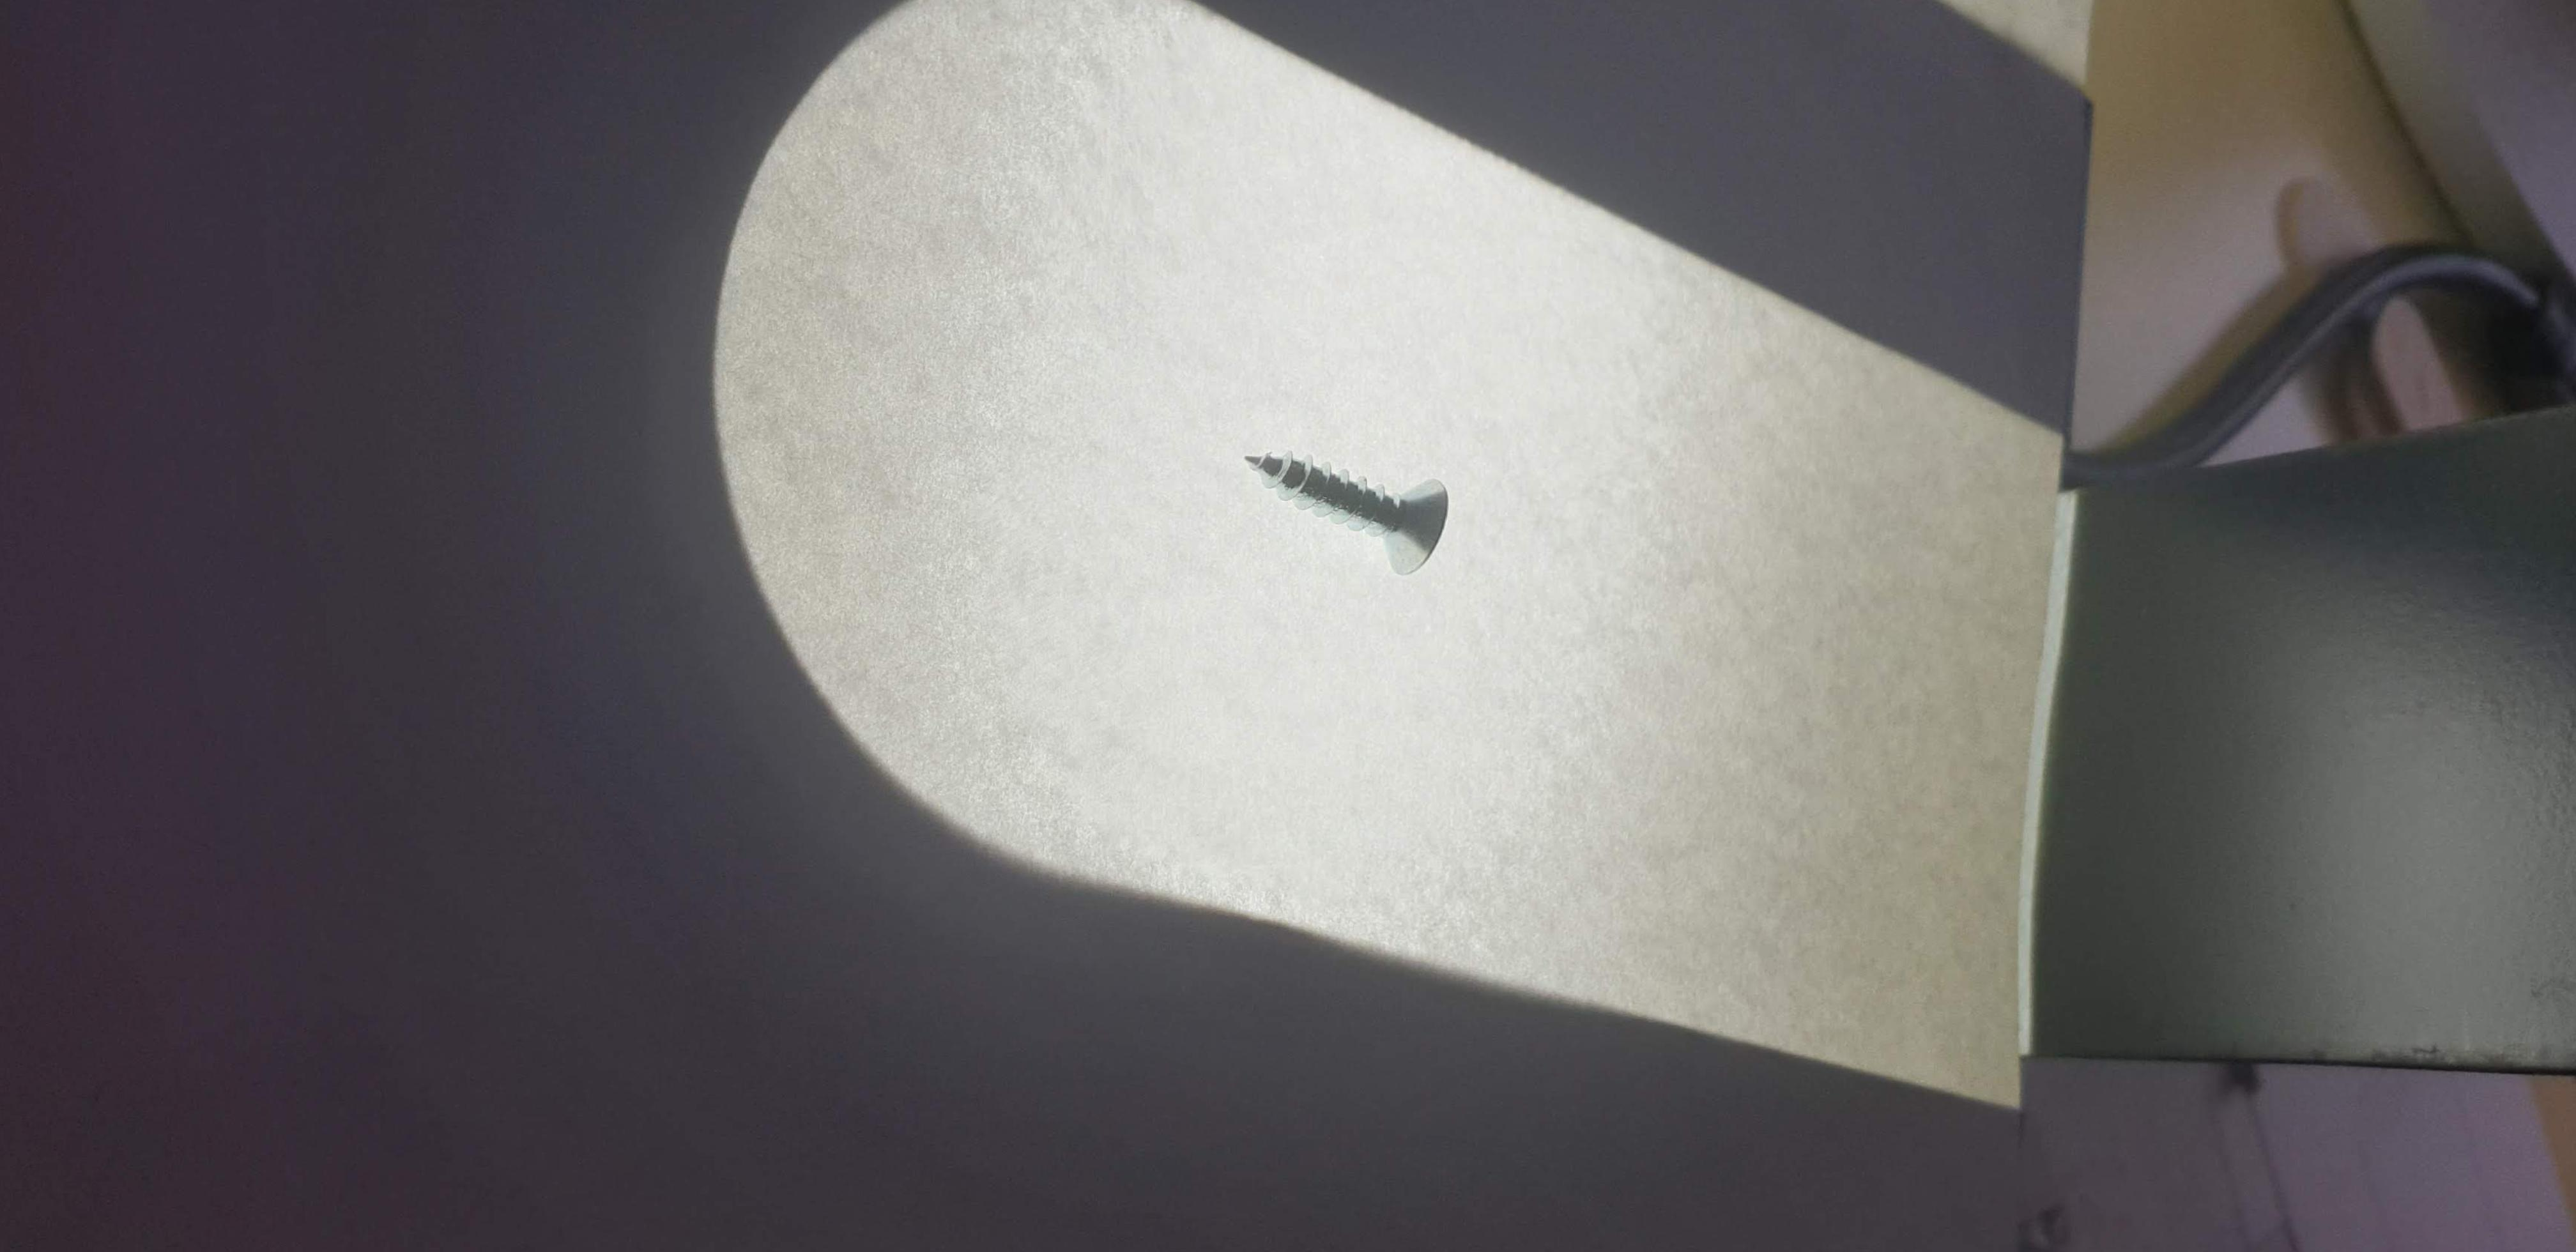S003: (1212, 407, 1518, 610)
